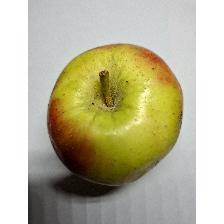Apfel: (44, 40, 188, 188)
